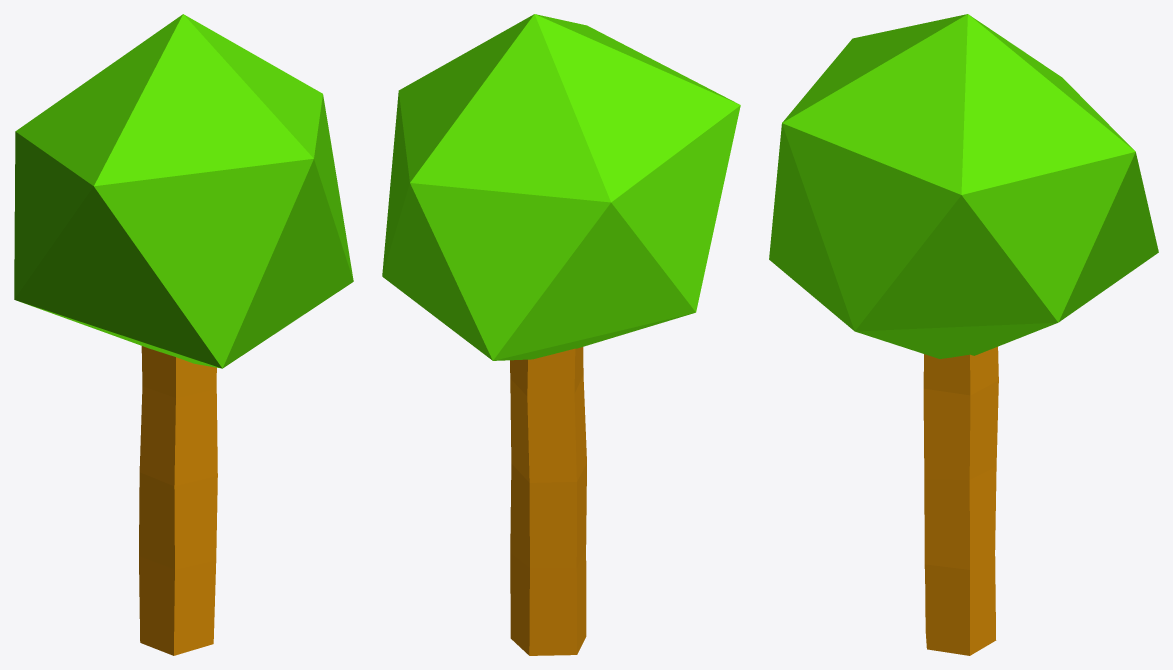
File: tree2.glb
3 views of the same model, side by side, from view 1: azimuth 30°, elevation 25°; view 2: azimuth 150°, elevation 25°; view 3: azimuth 270°, elevation 25° (orthographic). The views are drawn at different scales.
Parts seen in each view (by area): view 1: Icosphere.001, Tree.001; view 2: Icosphere.001, Tree.001; view 3: Icosphere.001, Tree.001.
Part boxes in pixels (x1,y1,x2,y2): Icosphere.001: [14, 14, 353, 368]; Tree.001: [139, 346, 217, 655]; Icosphere.001: [382, 14, 740, 360]; Tree.001: [510, 347, 586, 655]; Icosphere.001: [769, 14, 1158, 358]; Tree.001: [923, 346, 998, 655].
Size of the model in its own units: 1.15 by 2.27 by 1.27.
